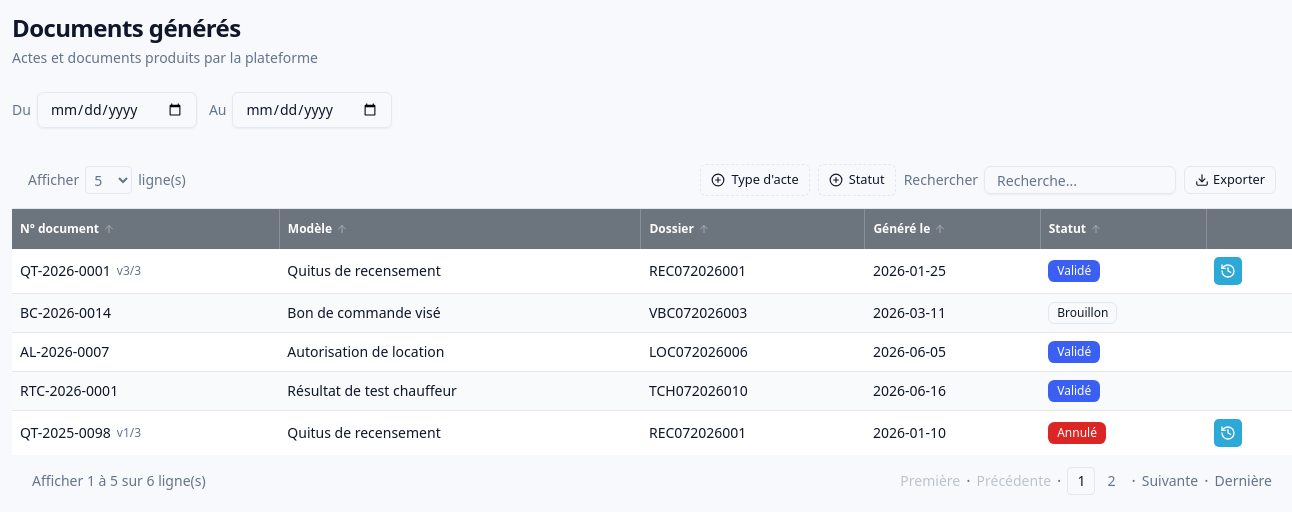
Test: DocumentsPage — recherche et filtres › la recherche globale existante filtre toujours par numéro (non-régression)
Expected: the text "QT-2026-0001" is shown, [20,261,111,281]
Type "BC-2026" into the field with test id "datatable-search-input" at (1080, 180), box [984,166,1176,194]
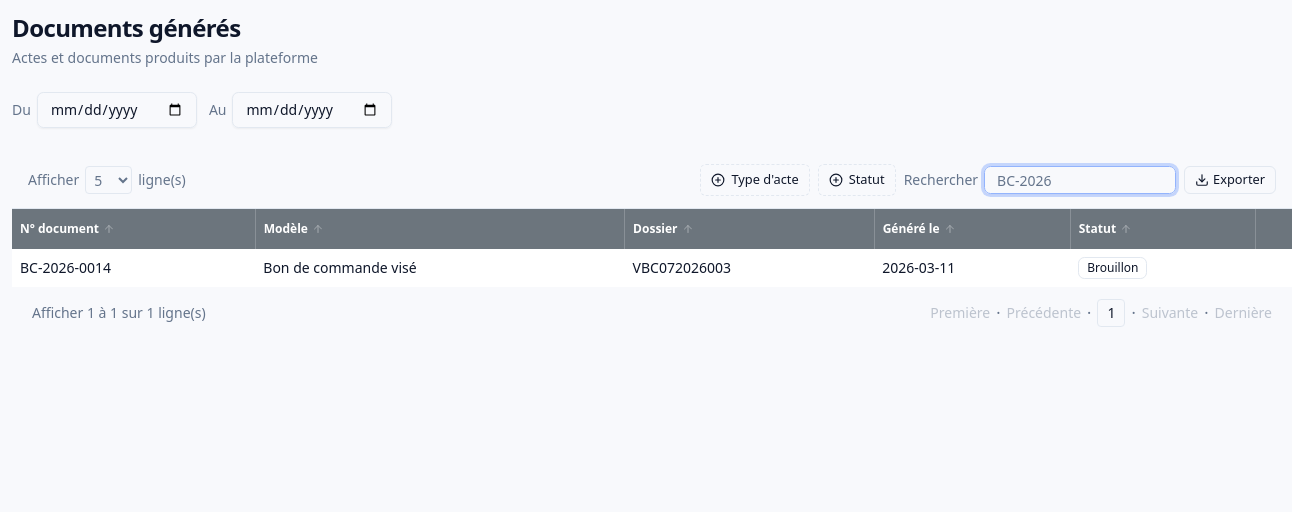
Expected: the text "BC-2026-0014" is shown, [20,258,111,278]
Expected: the text "QT-2026-0001" is gone
